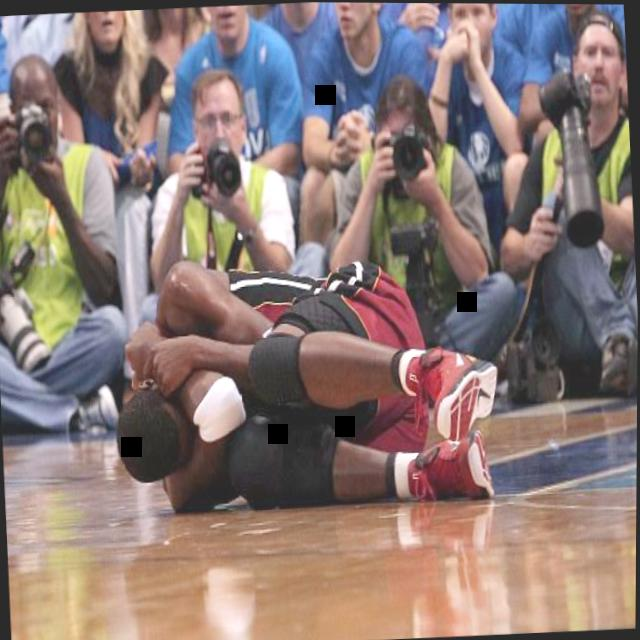Fall-Detected: (111, 233, 515, 534)
